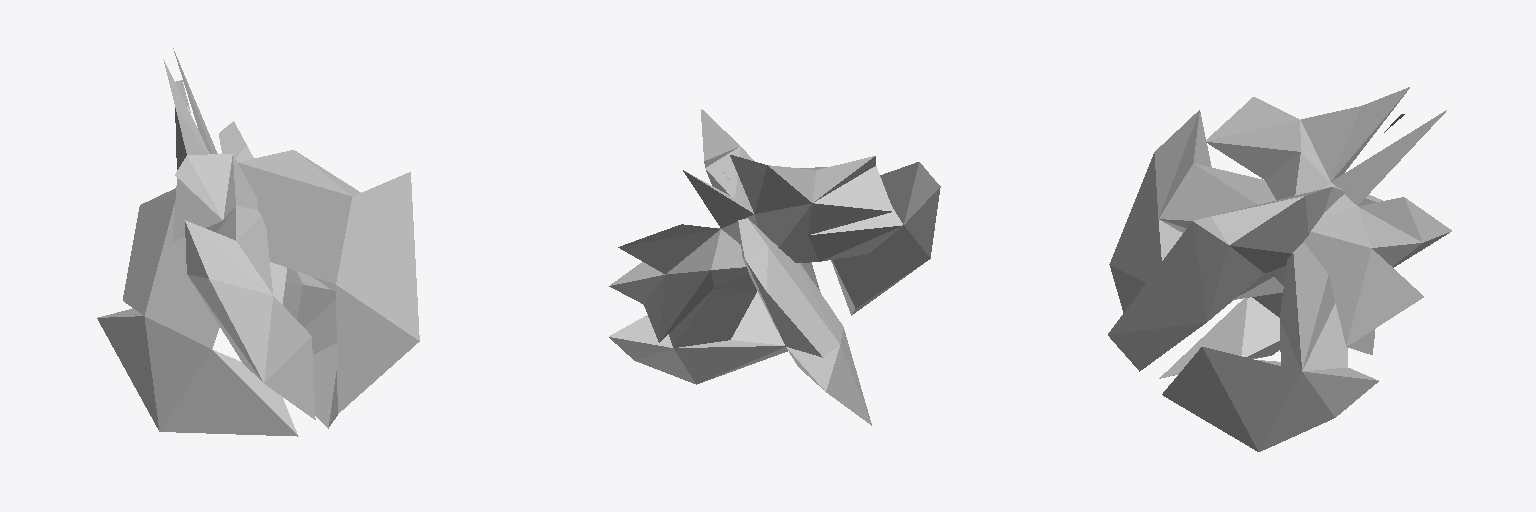
3 renders of one model, left to right at view 1: azimuth 30°, elevation 25°; view 2: azimuth 150°, elevation 25°; view 3: azimuth 270°, elevation 25°, orthographic.
Visible parts, largest first — view 1: unknown; view 2: unknown; view 3: unknown.
Part boxes in pixels (bbox=[...]): unknown: bbox=[97, 48, 419, 436]; unknown: bbox=[609, 109, 940, 425]; unknown: bbox=[1108, 87, 1451, 451].
Size of the model in its own units: 0.5394 by 0.7253 by 0.7256.